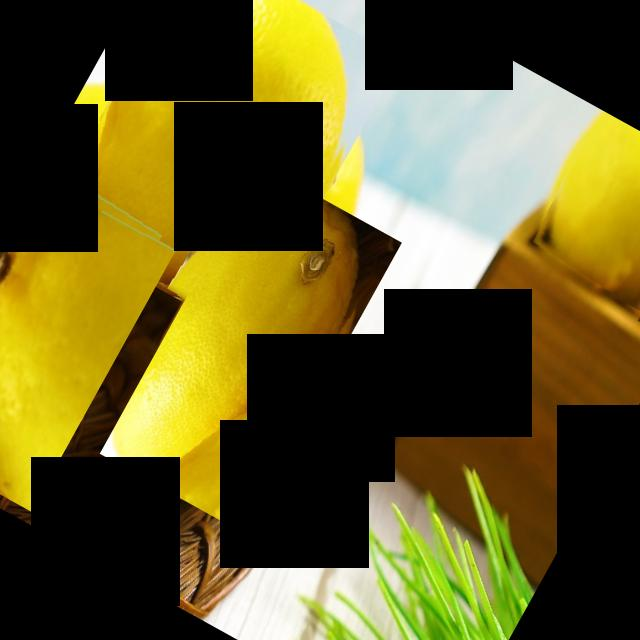lemon: (43, 0, 401, 338), (100, 165, 402, 532), (0, 173, 175, 512), (520, 107, 640, 311)
